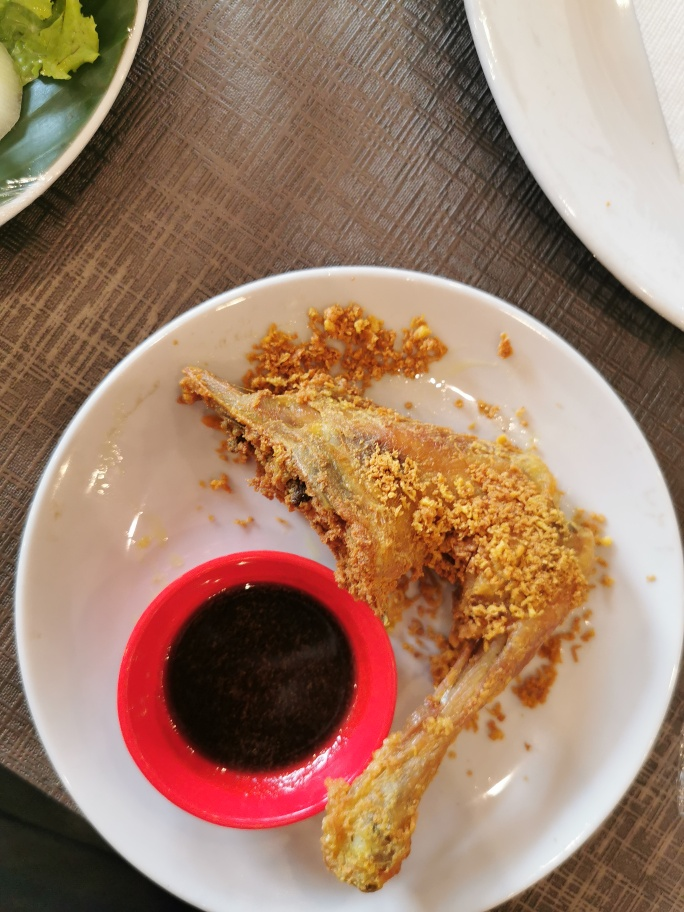ayam goreng: (171, 361, 596, 895)
kecap: (118, 552, 398, 823)
